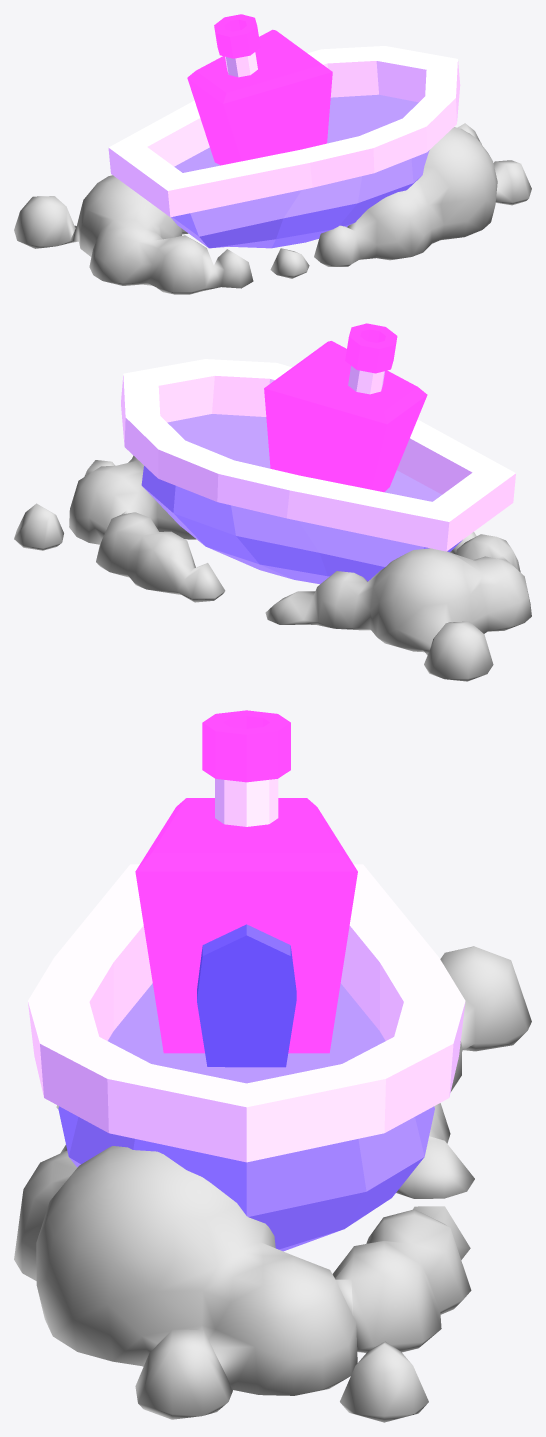
File: bubble_boat.fbx
3 views of the same model, one above another, from view 1: azimuth 30°, elevation 25°; view 2: azimuth 150°, elevation 25°; view 3: azimuth 270°, elevation 25° (orthographic). The views are drawn at different scales.
Visible parts, largest first — view 1: Mball.017; view 2: Mball.017; view 3: Mball.017.
Boxes of the visible parts, bbox=[...] form: Mball.017: bbox=[14, 14, 531, 294]; Mball.017: bbox=[14, 323, 531, 681]; Mball.017: bbox=[14, 710, 531, 1422].
Bounding box in the file's own units: 500 × 251 × 259.
